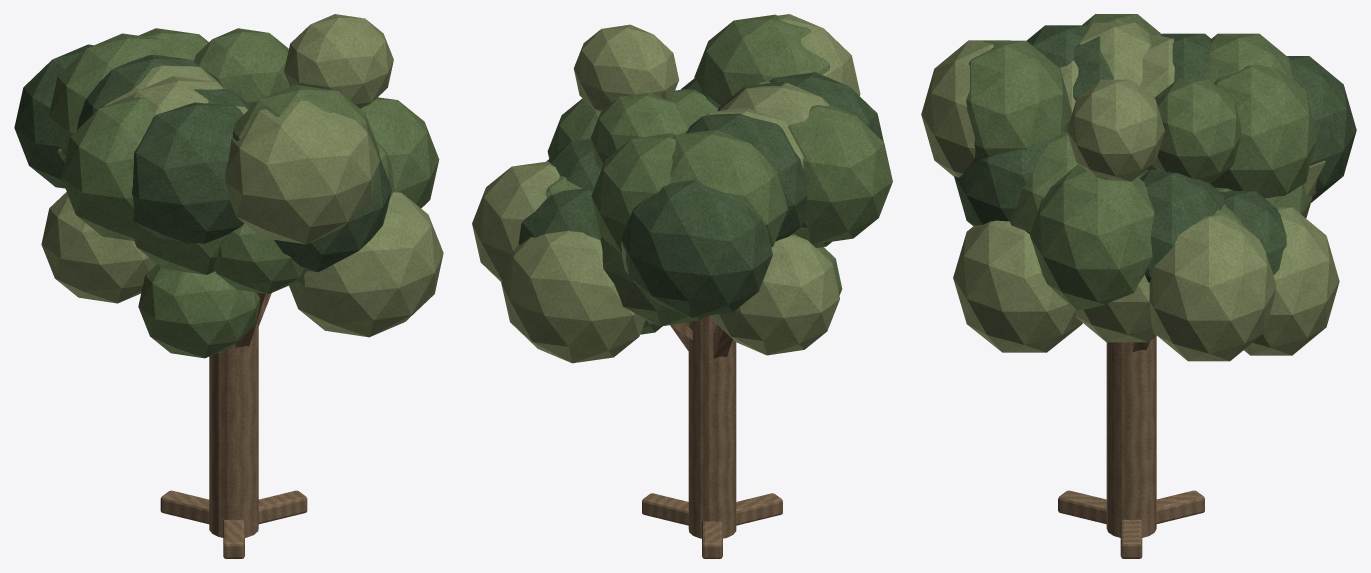
Rendered from NAT_TREE_OAK_1x1_001.glb.
3 views of the same model, side by side, from view 1: azimuth 30°, elevation 25°; view 2: azimuth 150°, elevation 25°; view 3: azimuth 270°, elevation 25° (orthographic). The views are drawn at different scales.
Parts seen in each view (by area): view 1: NAT_TREE_OAK_1x1_001_Visual; view 2: NAT_TREE_OAK_1x1_001_Visual; view 3: NAT_TREE_OAK_1x1_001_Visual.
Boxes of the visible parts, bbox=[...] form: NAT_TREE_OAK_1x1_001_Visual: bbox=[14, 14, 443, 558]; NAT_TREE_OAK_1x1_001_Visual: bbox=[472, 14, 892, 558]; NAT_TREE_OAK_1x1_001_Visual: bbox=[921, 14, 1356, 558].
Size of what is drawn, in the model's own units: 1.29 by 1.63 by 1.31.
Materials: 4 (4 with a texture image).
